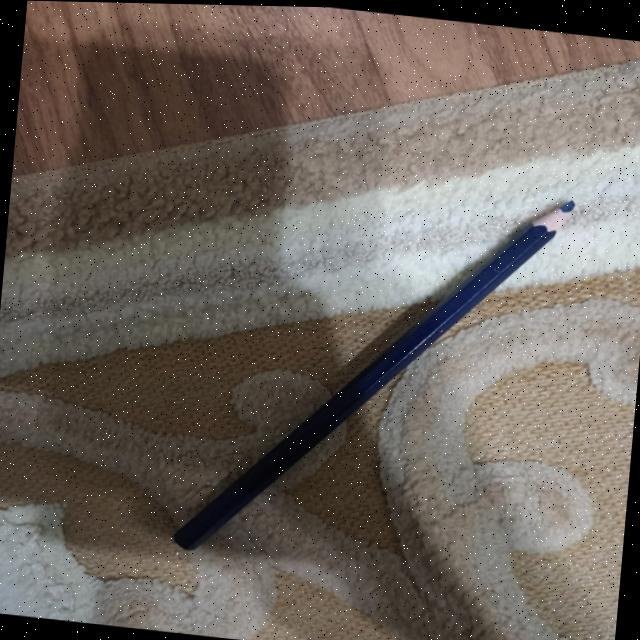pencil: (173, 197, 574, 549)
